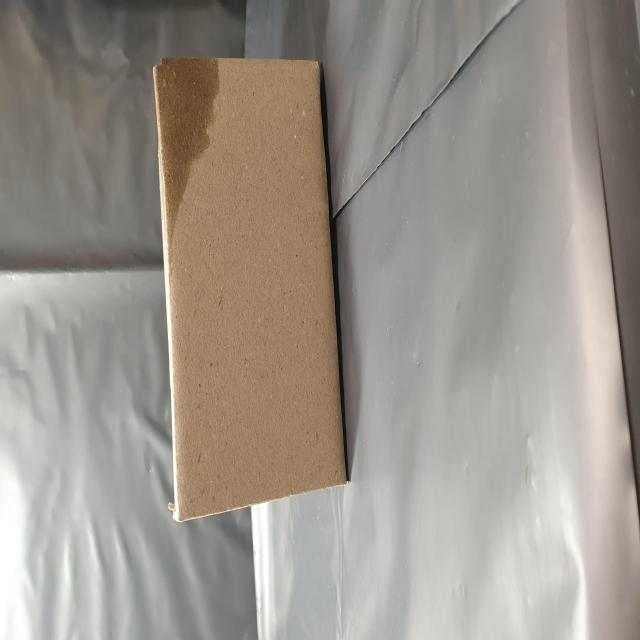wet: (223, 278, 334, 414)
